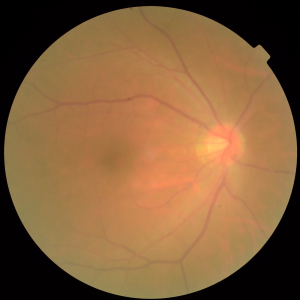cataract: (79, 94, 268, 217)
